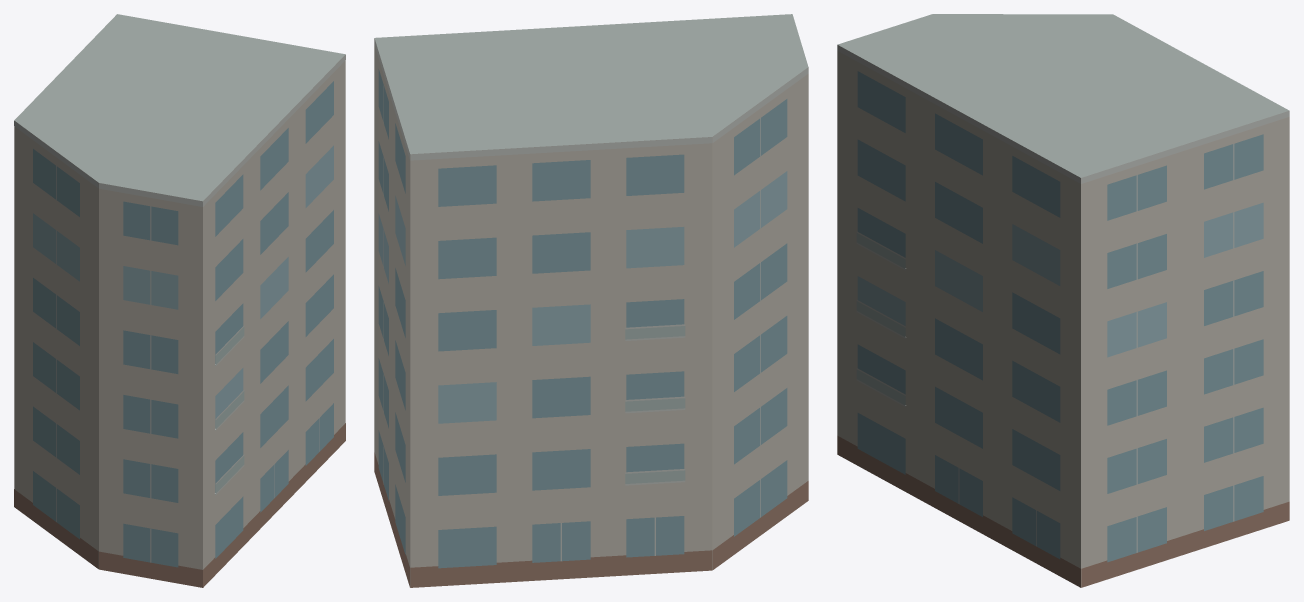
Rendered from survey-upis-32738609.glb.
The picture shows the model from 3 angles, left to right: view 1: azimuth 30°, elevation 25°; view 2: azimuth 150°, elevation 25°; view 3: azimuth 270°, elevation 25°; orthographic projection. The views are drawn at different scales.
Parts seen in each view (by area): view 1: survey-upis-32738609.tmp; view 2: survey-upis-32738609.tmp; view 3: survey-upis-32738609.tmp.
Part boxes in pixels (<box>): survey-upis-32738609.tmp: <box>14,14,345,587</box>; survey-upis-32738609.tmp: <box>374,14,808,587</box>; survey-upis-32738609.tmp: <box>837,14,1289,587</box>.
Bounding box in the file's own units: 14.08 × 16.4 × 16.41.
